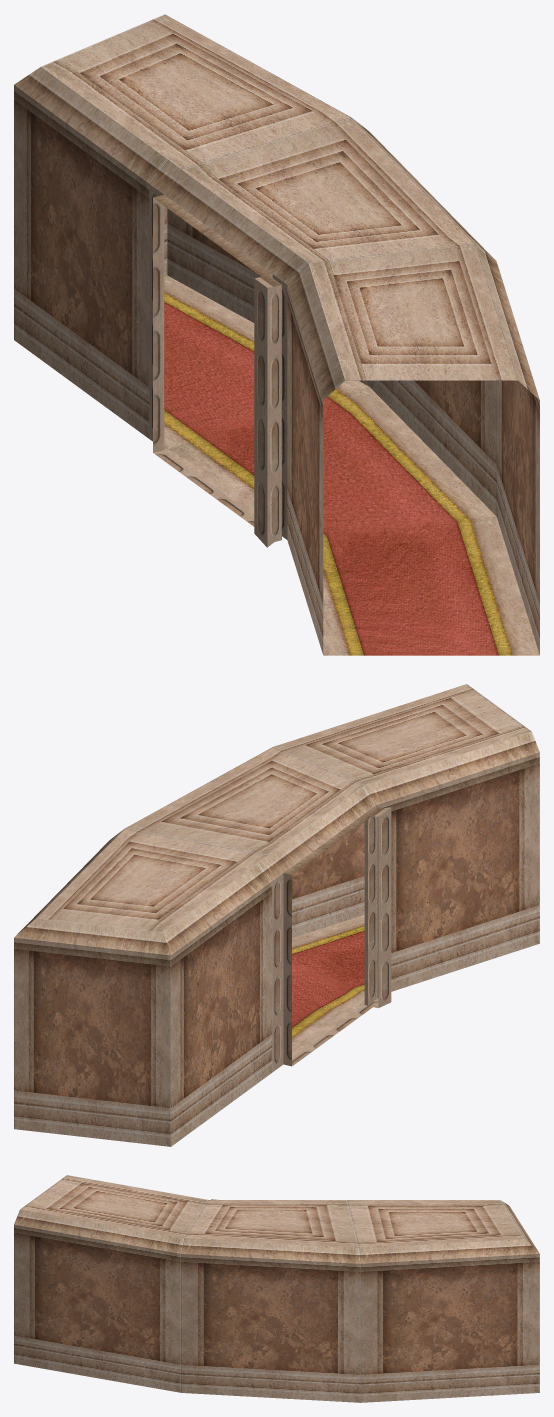
The model's file is thm_nboo_thed_emp_retreat_r2_hall1_mesh_r2.fbx.
The picture shows the model from 3 angles, top to bottom: view 1: azimuth 30°, elevation 25°; view 2: azimuth 150°, elevation 25°; view 3: azimuth 270°, elevation 25°; orthographic projection. The views are drawn at different scales.
Parts seen in each view (by area): view 1: mesh_node; view 2: mesh_node; view 3: mesh_node.
Boxes of the visible parts, <box> form: mesh_node: <box>14,14,539,655</box>; mesh_node: <box>14,684,539,1146</box>; mesh_node: <box>14,1175,539,1402</box>.
Bounding box in the file's own units: 6.61 × 5.65 × 17.83.
